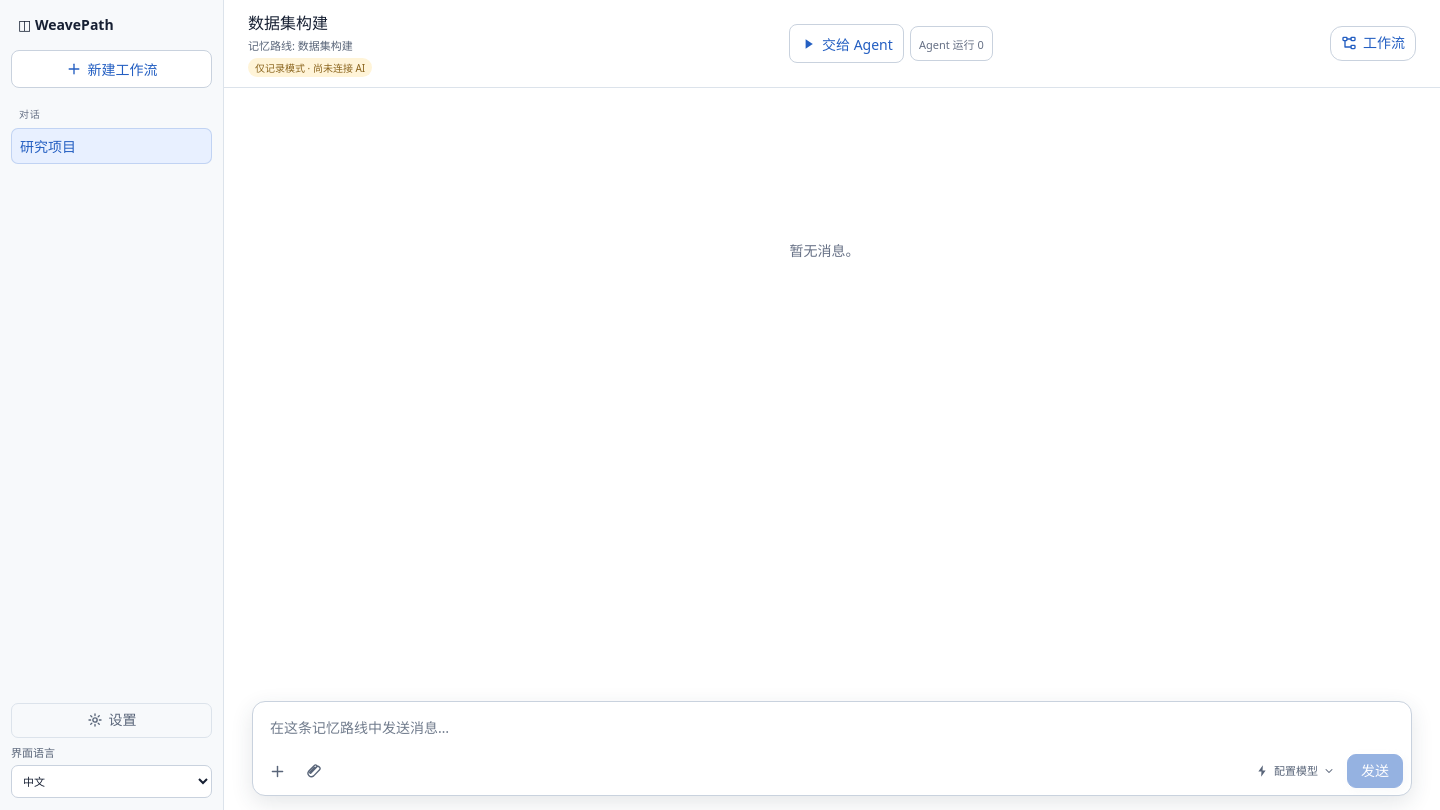
chat delivery mode › opens model settings from the compact sidebar button without translating conversation titles
Expected: the heading "数据集构建" is shown, [248,12,328,34]
Click the button "设置": (112, 720) [11,703,212,738]
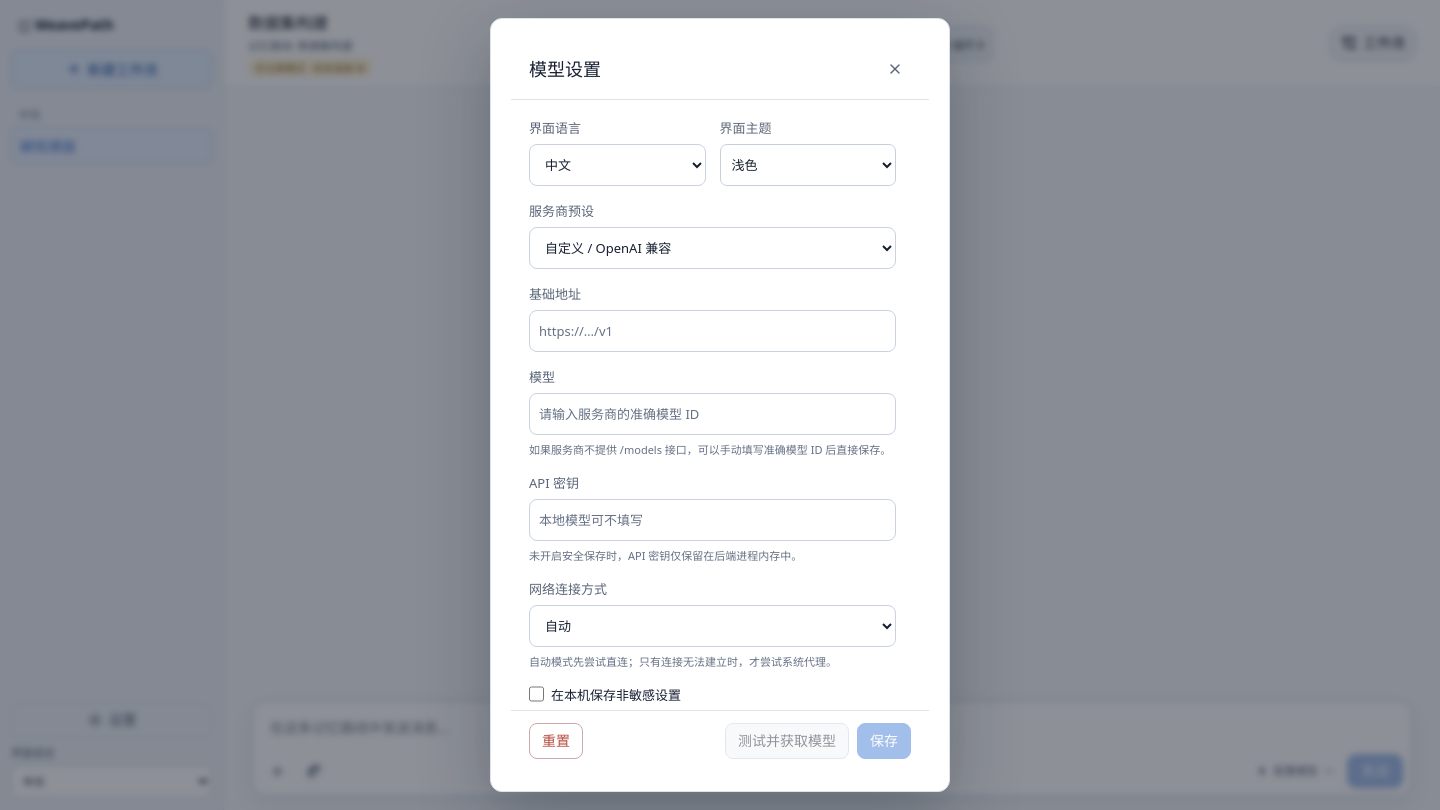
Expected: the heading "数据集构建" is shown, [248,12,328,34]
Now the heading "模型设置" is shown, box [529,58,601,80]
